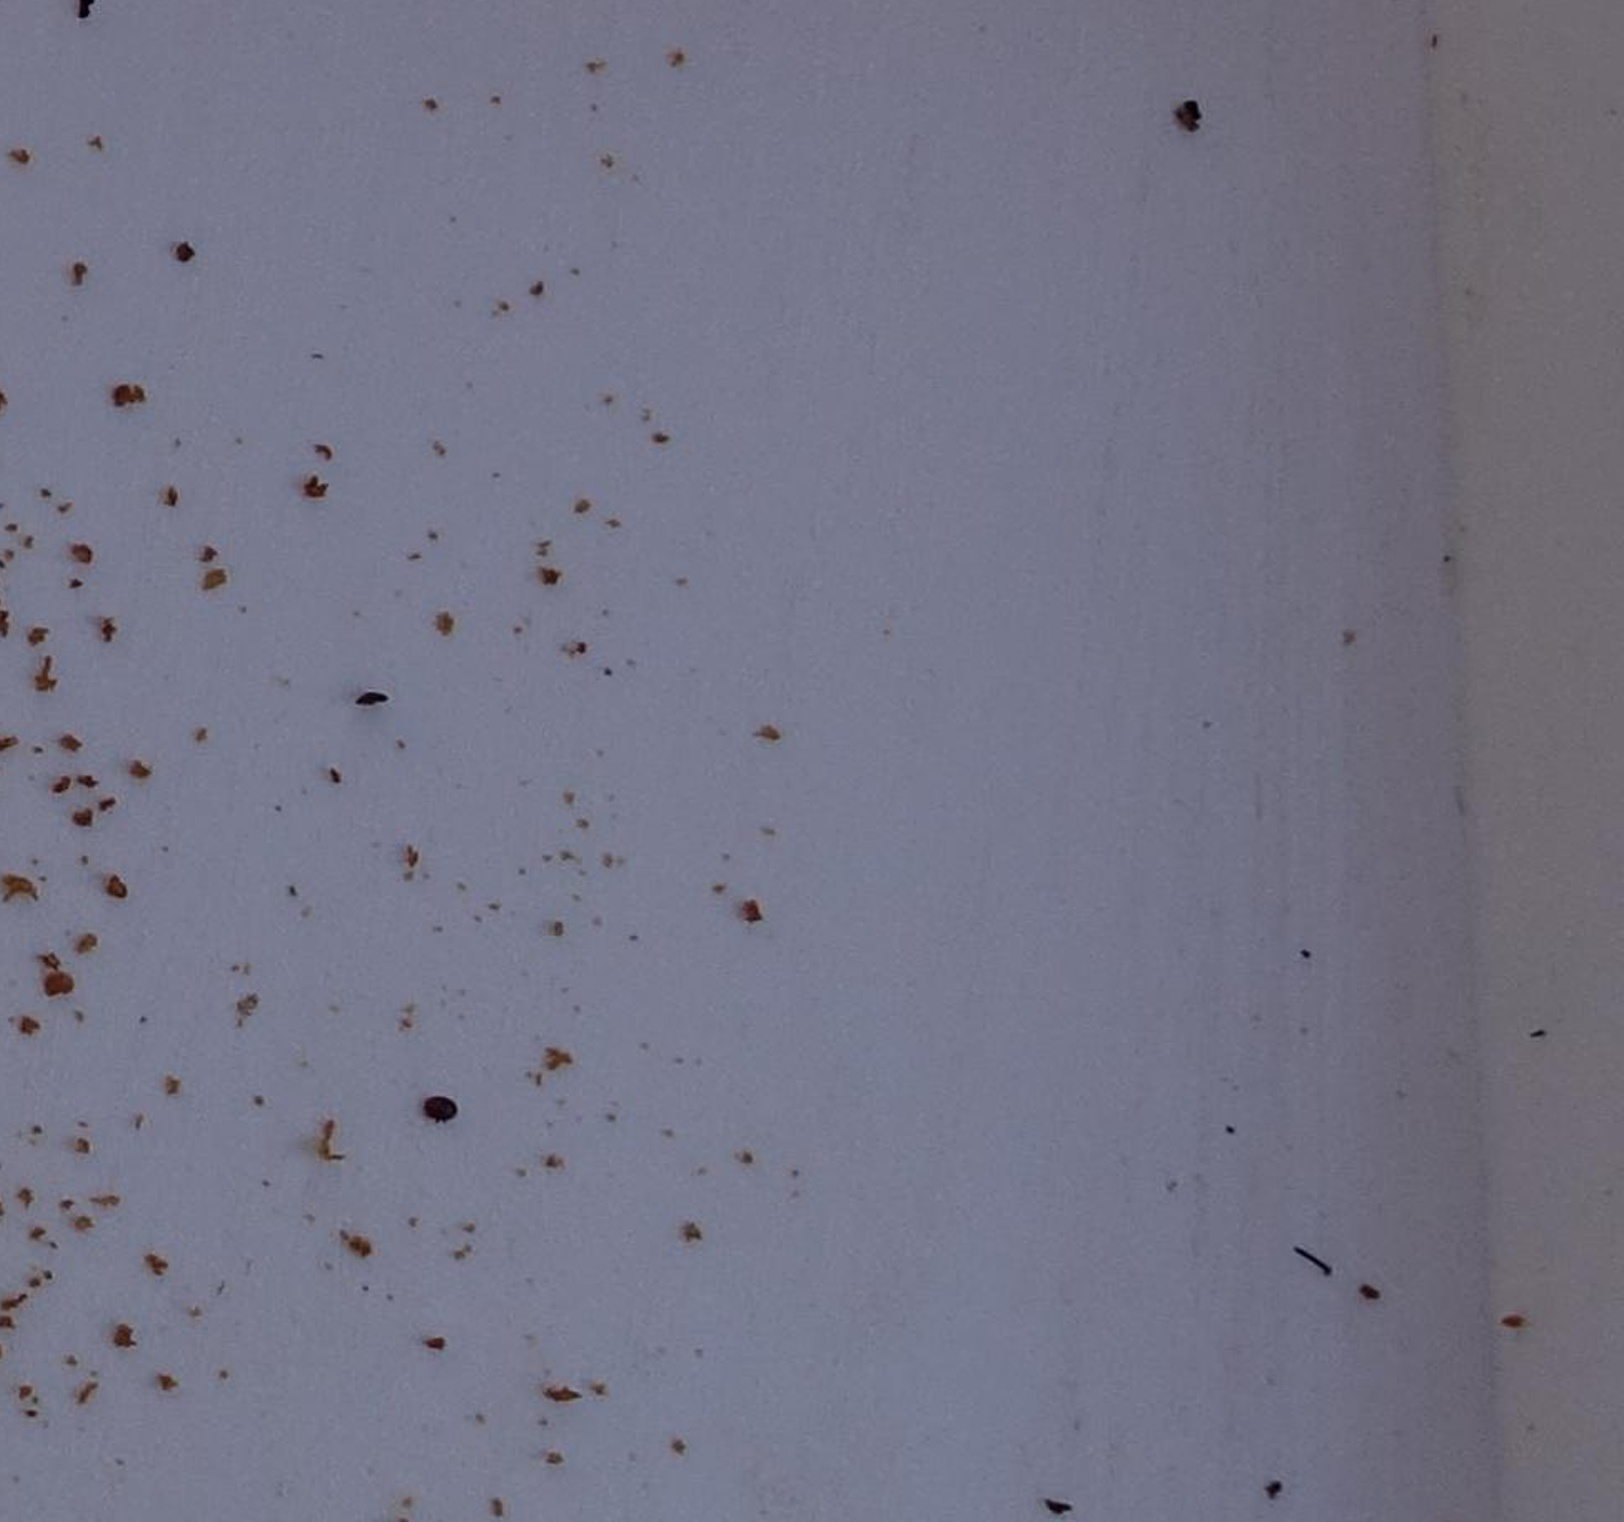Varroa: (424, 1094, 454, 1123)
